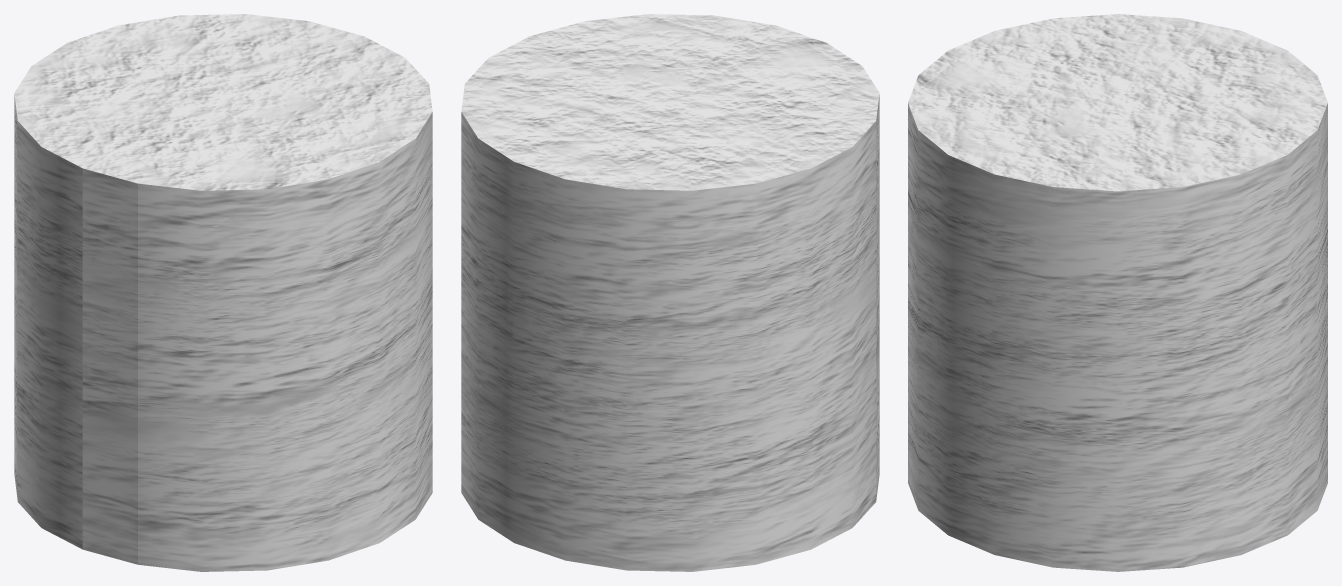
File: Objeto2.obj
3 views of the same model, side by side, from view 1: azimuth 30°, elevation 25°; view 2: azimuth 150°, elevation 25°; view 3: azimuth 270°, elevation 25° (orthographic).
Visible parts, largest first — view 1: polySurface146 Librero:polySurface14; view 2: polySurface146 Librero:polySurface14; view 3: polySurface146 Librero:polySurface14.
Boxes of the visible parts, <box> form: polySurface146 Librero:polySurface14: <box>14,14,432,571</box>; polySurface146 Librero:polySurface14: <box>461,14,879,571</box>; polySurface146 Librero:polySurface14: <box>908,14,1327,571</box>.
Size of the model in its own units: 0.2217 by 0.2217 by 0.2217.
Materials: 1 (1 with a texture image).
